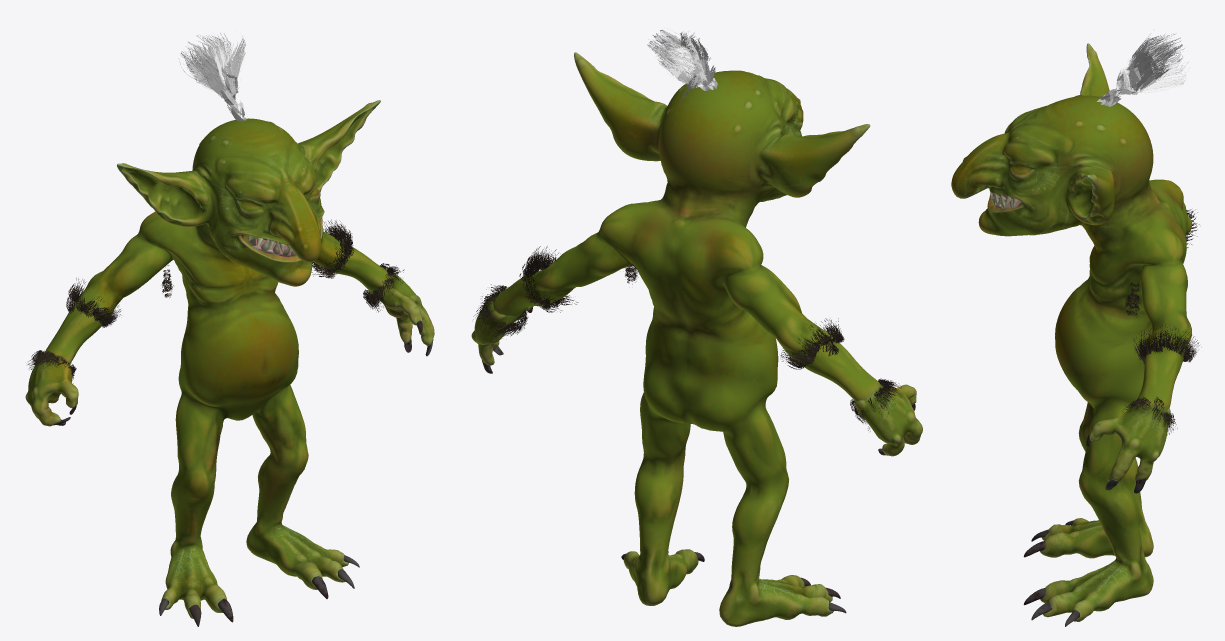
The model's file is Goblin.fbx.
3 renders of one model, left to right at view 1: azimuth 30°, elevation 25°; view 2: azimuth 150°, elevation 25°; view 3: azimuth 270°, elevation 25°, orthographic. The views are drawn at different scales.
Visible parts, largest first — view 1: Body, Plane.022, Plane.006, Plane.002, Plane.001; view 2: Body, Plane.022, Plane.002, Plane.006, Plane.001, Plane.003; view 3: Body, Plane.022, Plane.006, Plane.001.
Part boxes in pixels (<box>): Body: <box>25,100,434,626</box>; Plane.022: <box>178,33,247,121</box>; Plane.006: <box>311,219,354,278</box>; Plane.002: <box>66,278,120,327</box>; Plane.001: <box>363,263,404,312</box>; Body: <box>471,52,922,626</box>; Plane.022: <box>647,28,717,104</box>; Plane.002: <box>780,318,844,369</box>; Plane.006: <box>519,246,578,312</box>; Plane.001: <box>473,284,528,339</box>; Plane.003: <box>850,378,901,431</box>; Body: <box>951,43,1191,626</box>; Plane.022: <box>1097,34,1190,106</box>; Plane.006: <box>1133,323,1199,364</box>; Plane.001: <box>1122,396,1177,435</box>.
Bounding box in the file's own units: 87.31 × 115 × 47.68.
